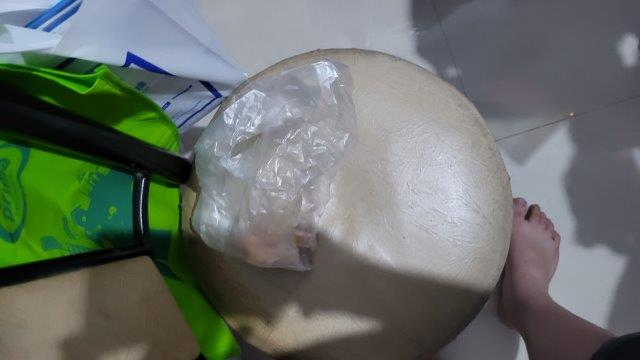plastik: (193, 57, 356, 275), (2, 2, 191, 129)
